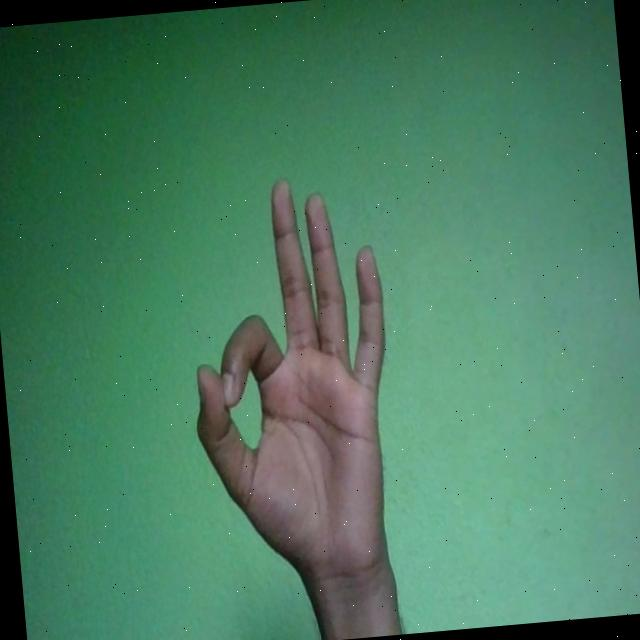Rock On: (176, 168, 407, 596)
